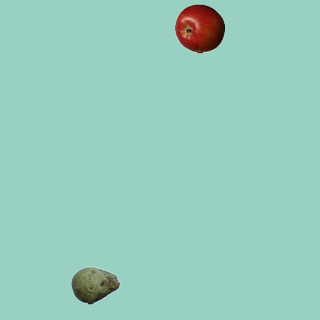Apple Braeburn: (174, 3, 224, 53)
Pear Stone: (70, 260, 120, 310)
